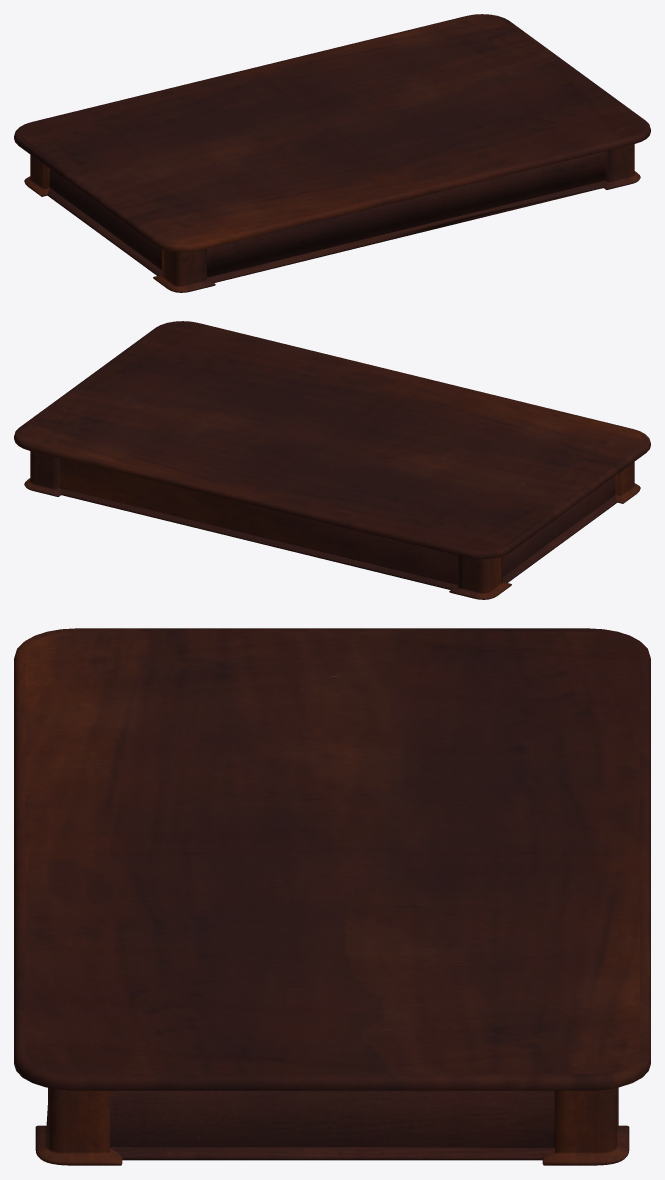
File: top.fbx
The picture shows the model from 3 angles, top to bottom: view 1: azimuth 30°, elevation 25°; view 2: azimuth 150°, elevation 25°; view 3: azimuth 270°, elevation 25°; orthographic projection. The views are drawn at different scales.
Parts seen in each view (by area): view 1: Legs_and_Rails; view 2: Legs_and_Rails; view 3: Legs_and_Rails.
Part boxes in pixels (x1,y1,x2,y2): Legs_and_Rails: [14, 14, 650, 292]; Legs_and_Rails: [14, 321, 650, 599]; Legs_and_Rails: [14, 628, 650, 1165].
Bounding box in the file's own units: 1371 × 140 × 814.
Materials: 2 (2 with a texture image).
